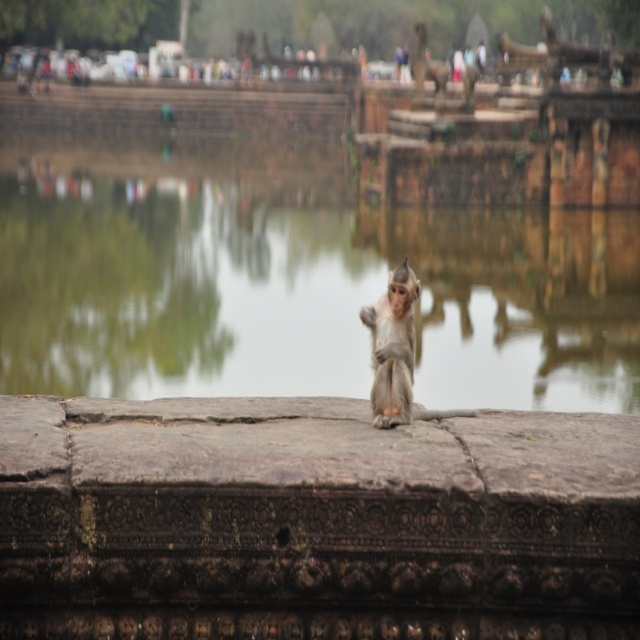Monkey: (361, 256, 431, 424)
